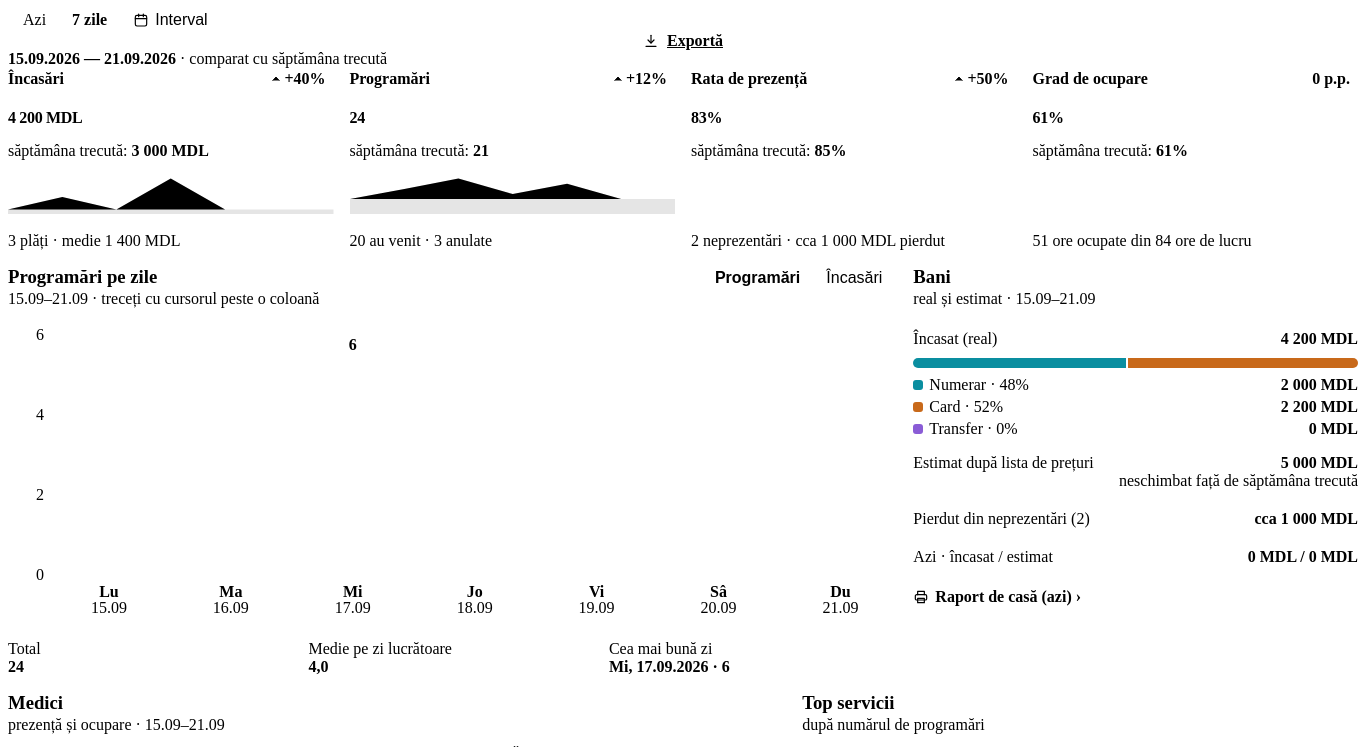
Test: StatsScreen › готовый период меняет отбор и АДРЕС — закладка открывает тот же
Check: the text "15.09.2026 — 21.09.2026" is shown, box [8,50,176,67]
Step 1. Click the link "Azi" → x=35, y=20, box [23,11,46,28]
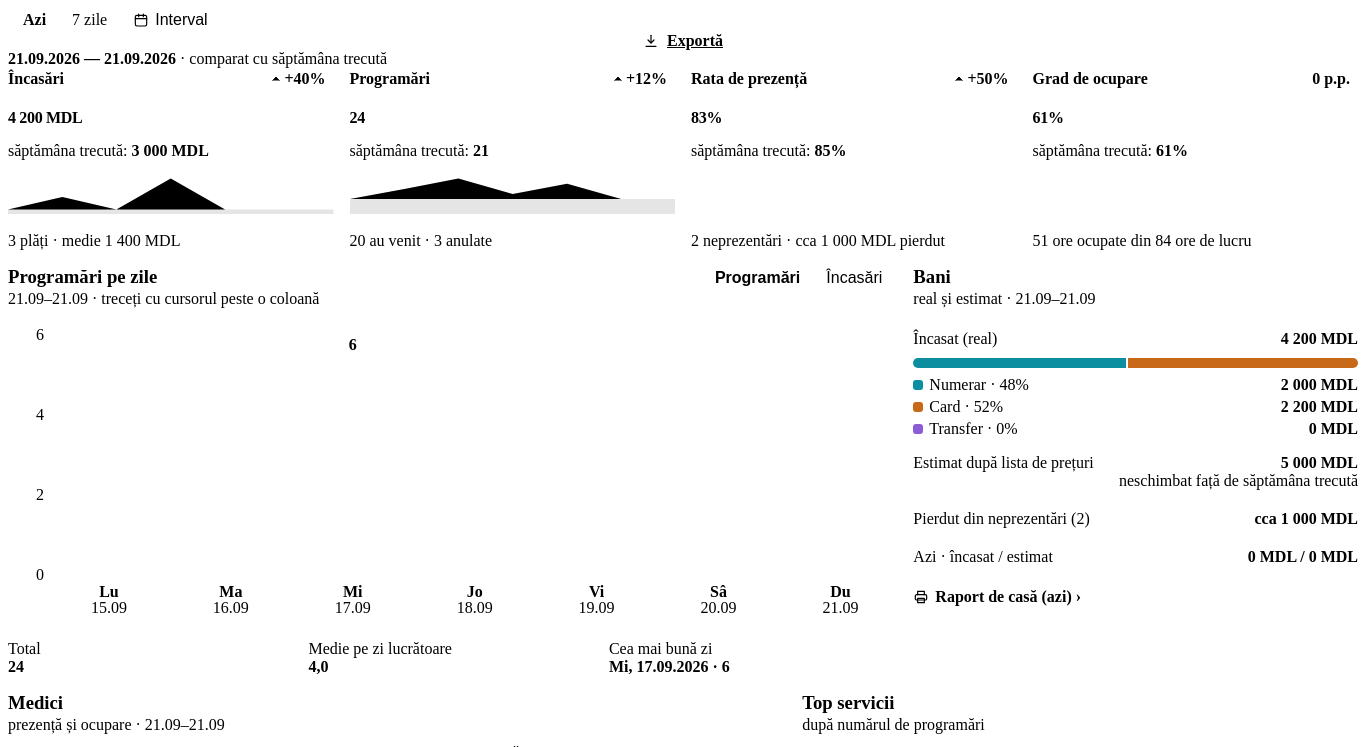
Check: the text "21.09.2026 — 21.09.2026" is shown, box [8,50,176,67]
